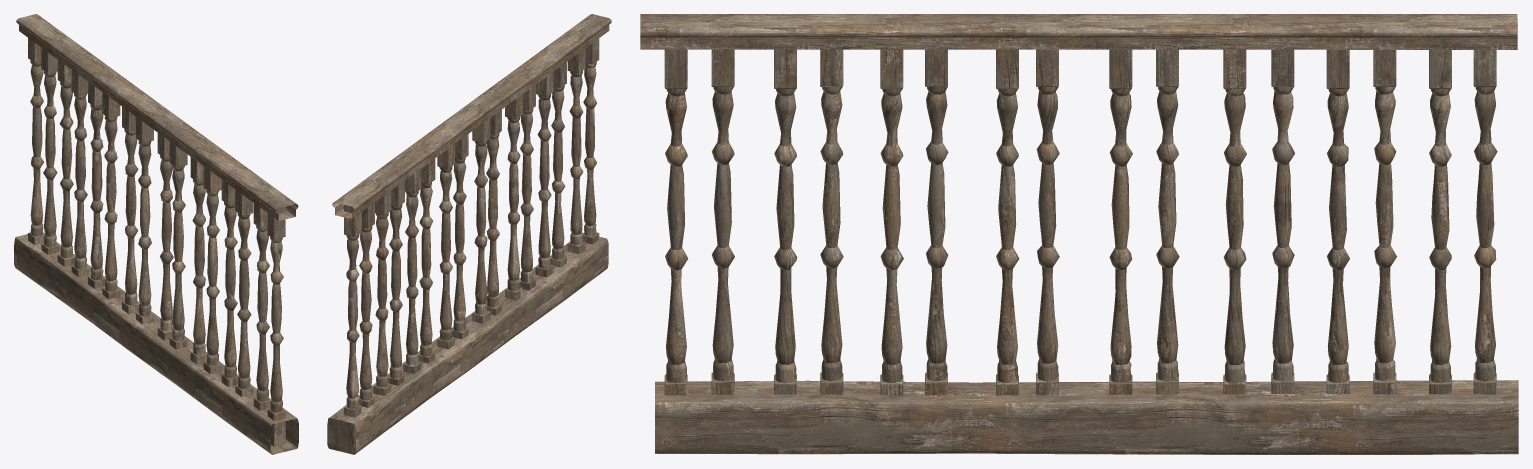
File: SM_Banister.fbx
3 renders of one model, left to right at view 1: azimuth 30°, elevation 25°; view 2: azimuth 150°, elevation 25°; view 3: azimuth 270°, elevation 25°, orthographic. The views are drawn at different scales.
Parts seen in each view (by area): view 1: SM_Banister_LOD0; view 2: SM_Banister_LOD0; view 3: SM_Banister_LOD0.
Part boxes in pixels (x1,y1,x2,y2): SM_Banister_LOD0: [14, 14, 298, 454]; SM_Banister_LOD0: [327, 14, 611, 454]; SM_Banister_LOD0: [640, 14, 1518, 454].
Size of the model in its own units: 13.26 by 200 by 106.
Materials: 1 (1 with a texture image).
